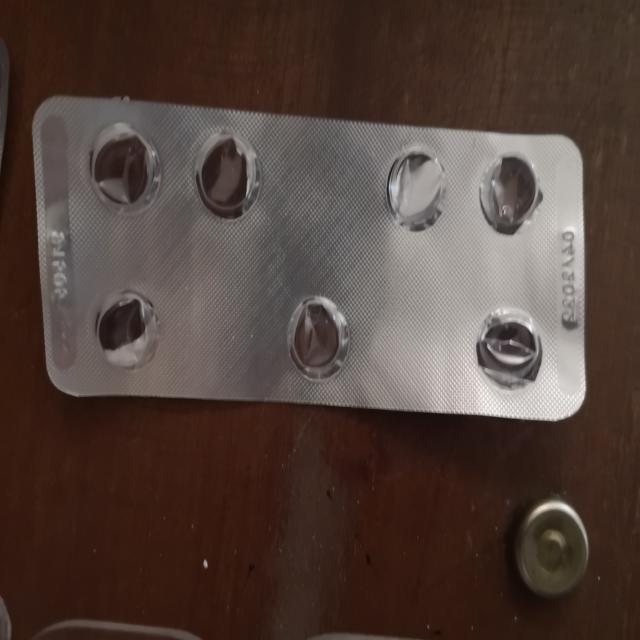Empty: (468, 302, 554, 397), (189, 122, 267, 222), (378, 140, 455, 235), (471, 147, 547, 240), (282, 287, 354, 383), (81, 125, 159, 212), (90, 284, 164, 370)
